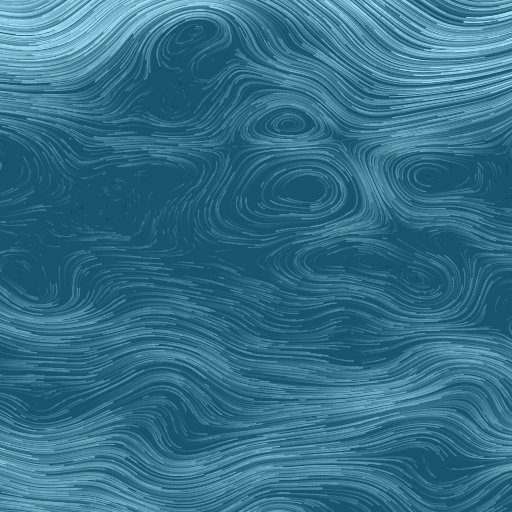eddy: (297, 237, 461, 314), (230, 148, 370, 231), (240, 101, 336, 147), (394, 154, 487, 199), (159, 10, 227, 59)
